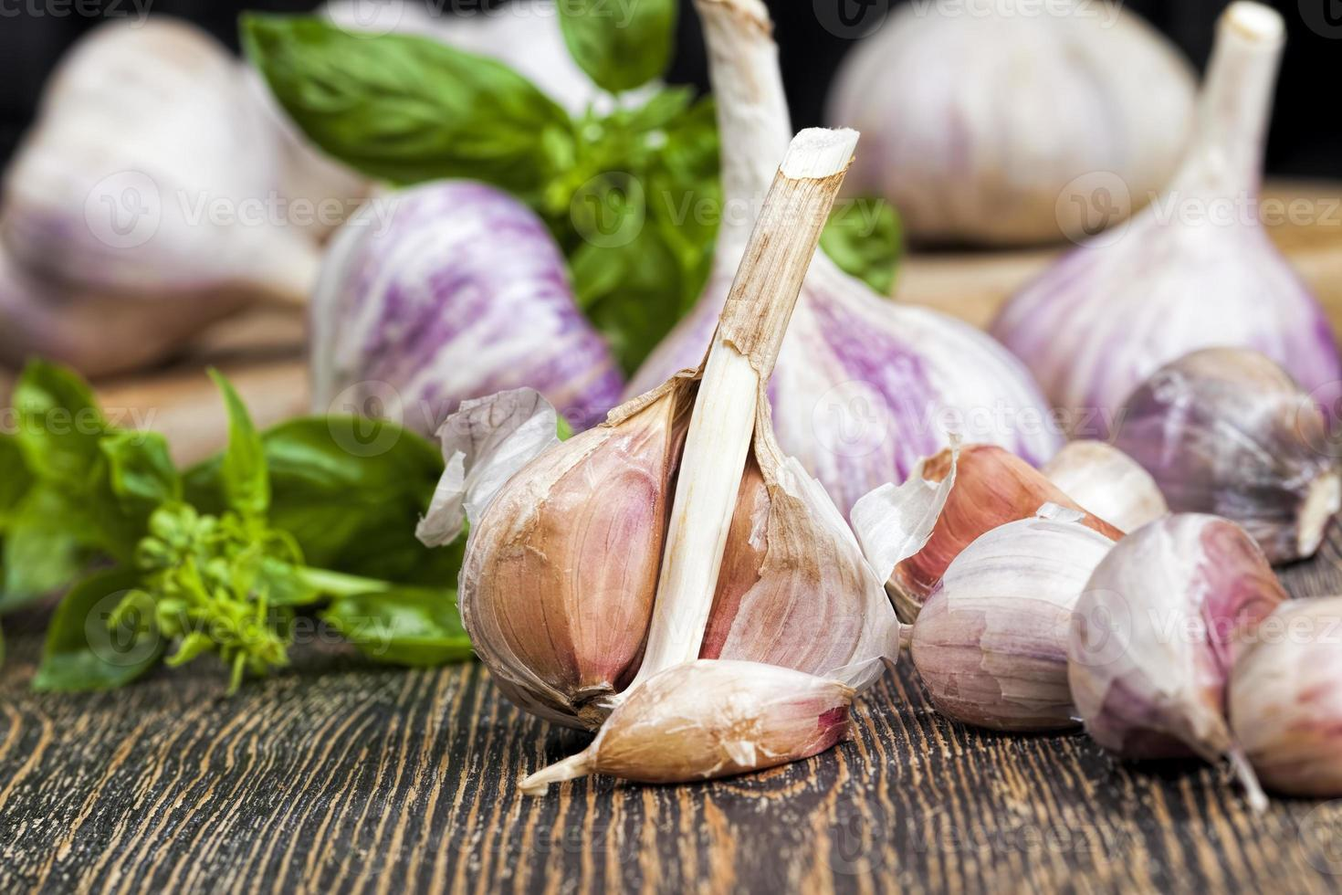garlic: (489, 146, 975, 772)
